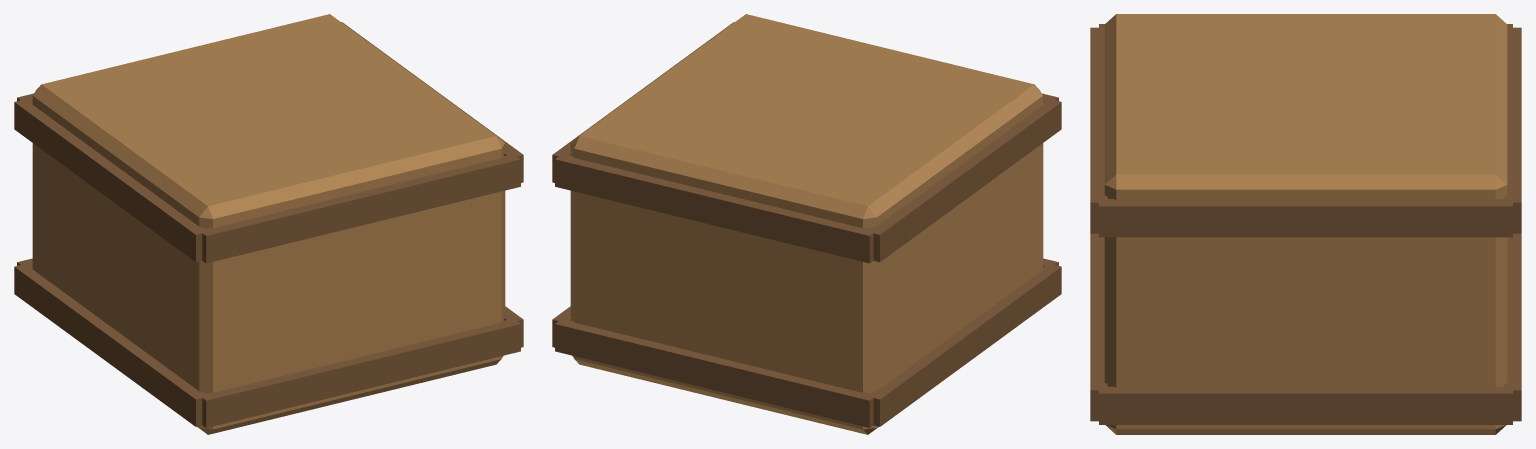
Rendered from crate.glb.
3 views of the same model, side by side, from view 1: azimuth 30°, elevation 25°; view 2: azimuth 150°, elevation 25°; view 3: azimuth 270°, elevation 25° (orthographic). The views are drawn at different scales.
Visible parts, largest first — view 1: crate_prop; view 2: crate_prop; view 3: crate_prop.
Part boxes in pixels (x1,y1,x2,y2): crate_prop: [14, 14, 523, 434]; crate_prop: [552, 14, 1061, 434]; crate_prop: [1090, 14, 1521, 434].
Size of the model in its own units: 1.5 by 1 by 1.5.
